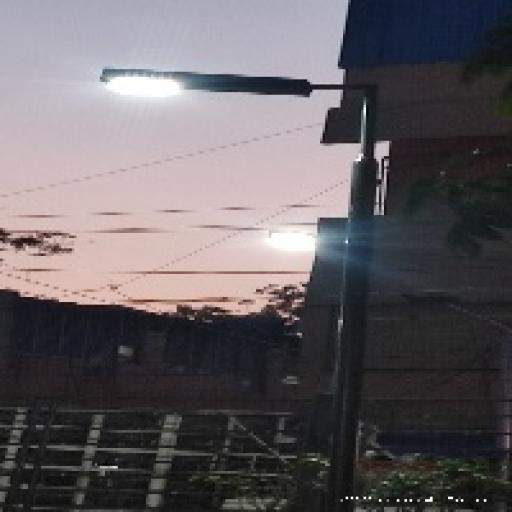Working: (93, 60, 314, 112), (259, 223, 328, 257)
